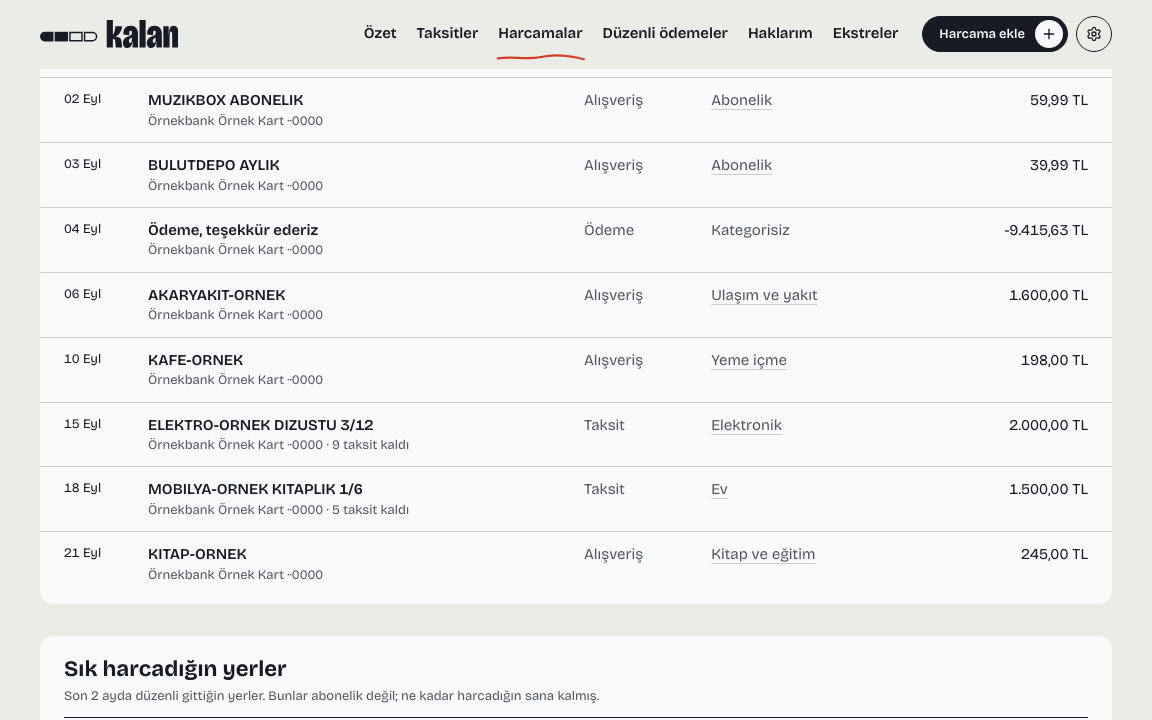
Test case: spending: category rules › changes a category for every row of the merchant and lists the rule
The image size is (1152, 720).
(page scrolled)
Click the button with aria-label "Kategoriyi değiştir: KAFE-ORNEK, şimdi Yeme içme". click: (759, 360)
box: [711, 350, 807, 371]
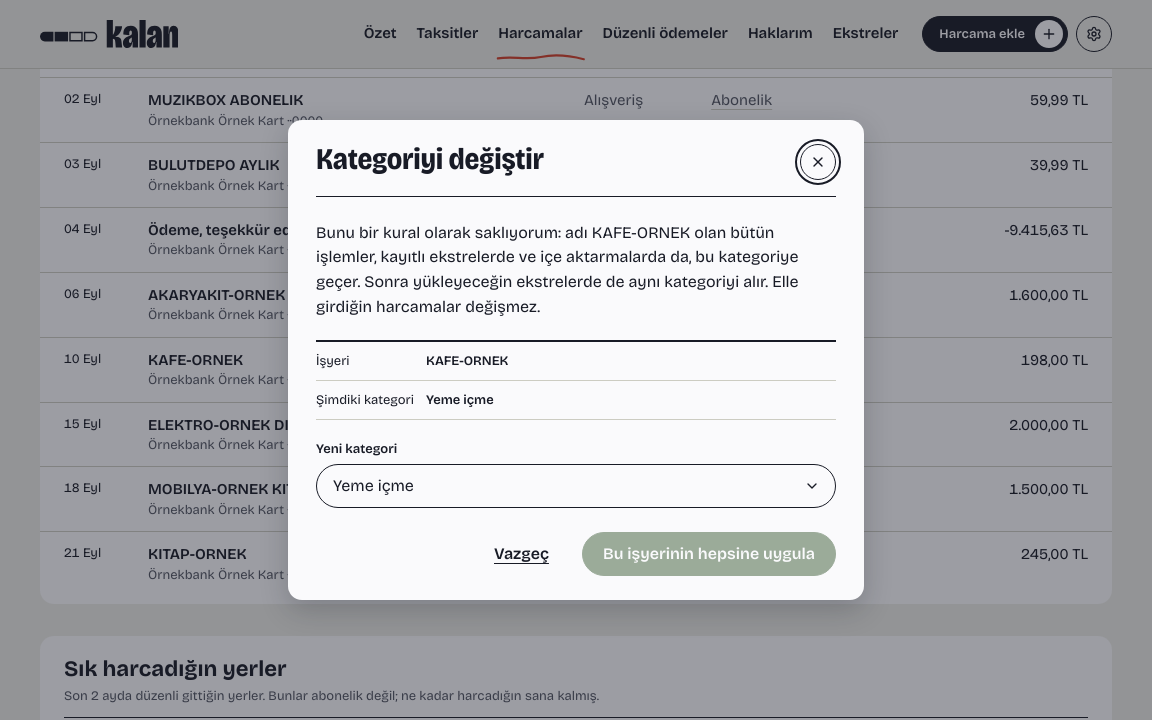
Expected: the text "adı KAFE-ORNEK olan bütün işlemler" is shown, [316, 223, 799, 316]
Expected: the button "Bu işyerinin hepsine uygula" is disabled, [582, 532, 836, 576]
Select "Market" in the dropdown labelled "Yeni kategori". click: (576, 486)
box: [316, 464, 836, 508]
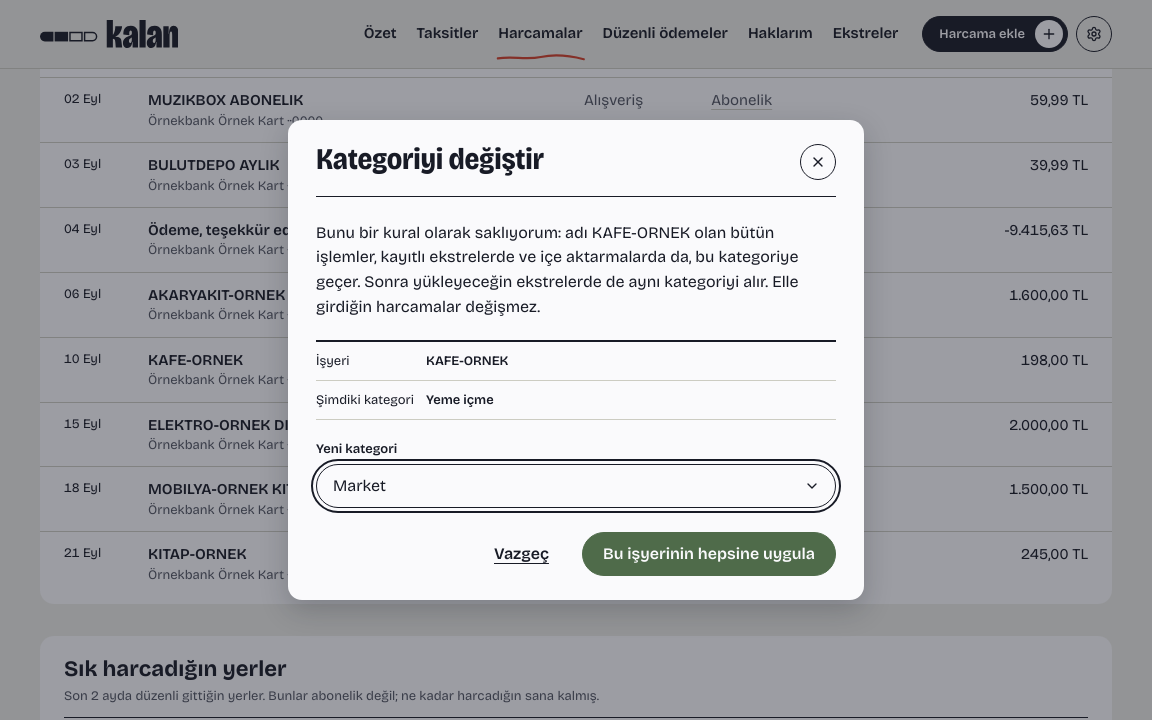
Click the button "Bu işyerinin hepsine uygula". click: (709, 554)
box: [582, 532, 836, 576]
(page scrolled)
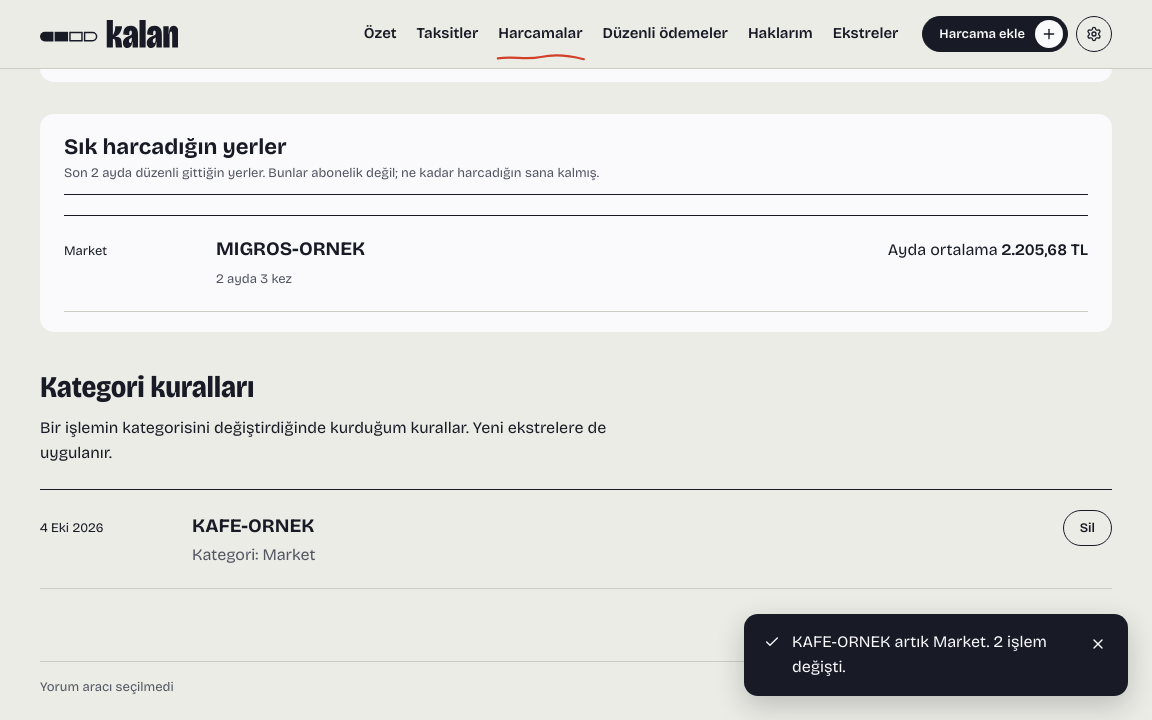
Expected: the text "KAFE-ORNEK" is shown, [192, 513, 314, 539]
Expected: the text "KAFE-ORNEK artık Market. 2 işlem değişti." is shown, [792, 630, 1072, 680]
Expected: the text "Kategori: Market" is shown, [192, 545, 316, 564]
